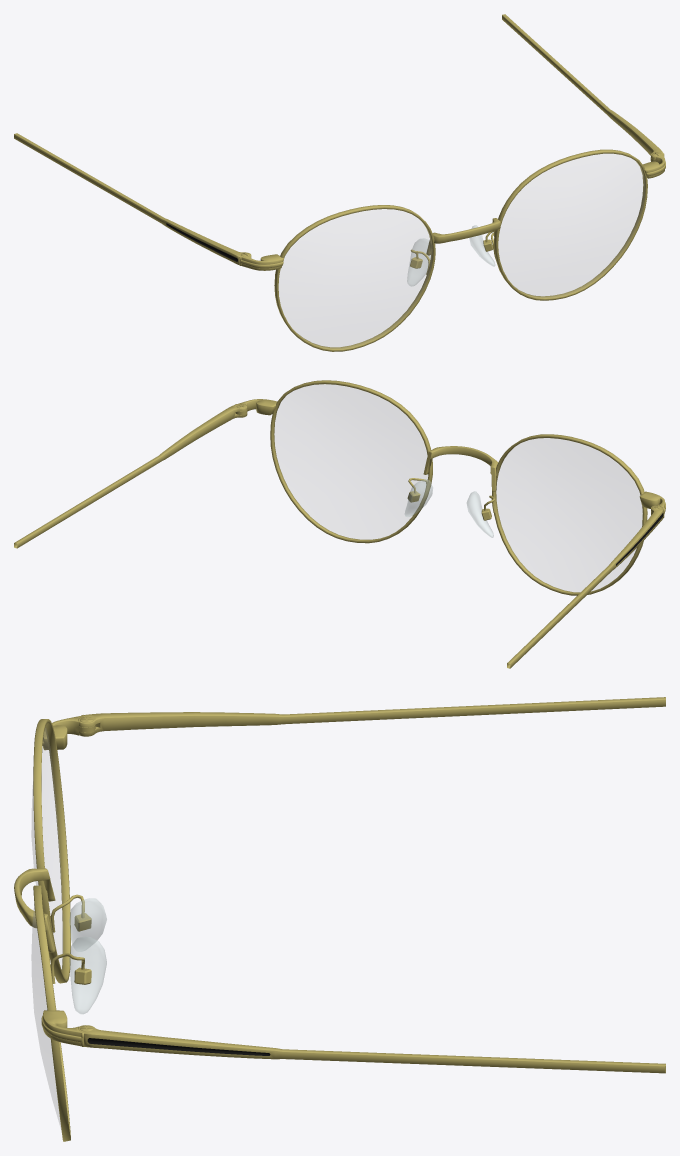
The picture shows the model from 3 angles, top to bottom: view 1: azimuth 30°, elevation 25°; view 2: azimuth 150°, elevation 25°; view 3: azimuth 270°, elevation 25°; orthographic projection. The views are drawn at different scales.
Parts seen in each view (by area): view 1: Group001; view 2: Group001; view 3: Group001, Box008.
Boxes of the visible parts, x1,y1,x2,y2 form: Group001: [53, 14, 665, 351]; Group001: [14, 380, 665, 642]; Group001: [14, 701, 665, 1141]; Box008: [564, 697, 665, 711].
Size of the model in its own units: 17.97 by 5.16 by 13.41.
